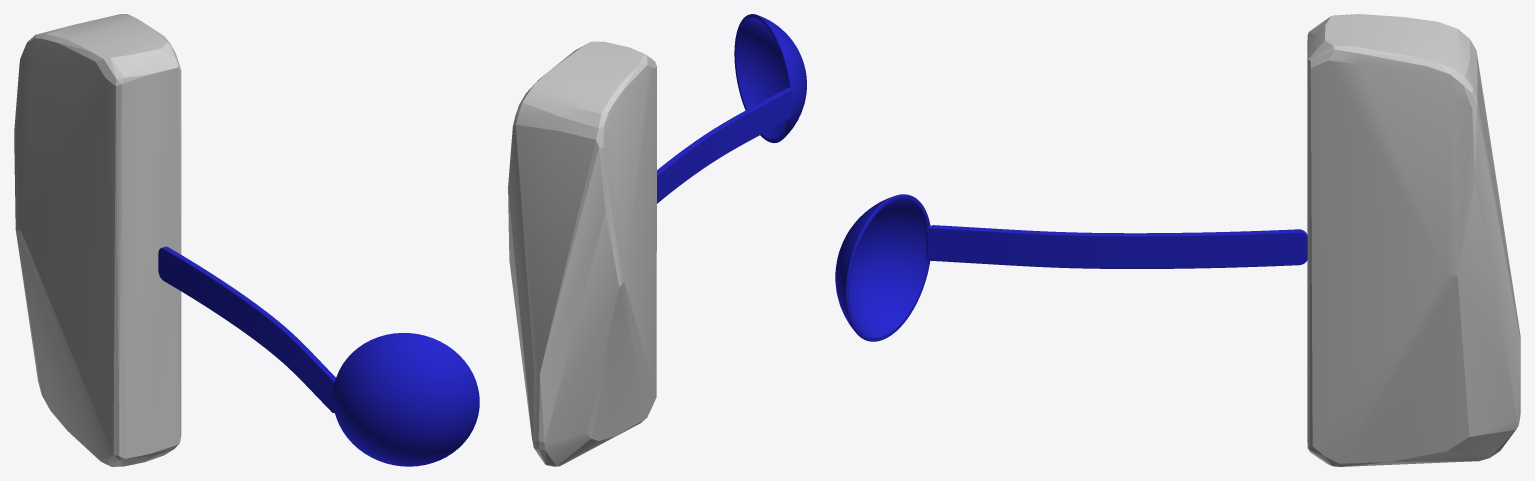
Rendered from mount_hand.obj.
3 views of the same model, side by side, from view 1: azimuth 30°, elevation 25°; view 2: azimuth 150°, elevation 25°; view 3: azimuth 270°, elevation 25° (orthographic). The views are drawn at different scales.
Parts seen in each view (by area): view 1: hand, mesh29.001; view 2: hand, mesh29.001; view 3: hand, mesh29.001.
Part boxes in pixels (x1,y1,x2,y2): hand: (14,14,181,466); mesh29.001: (158,246,479,466); hand: (508,41,656,466); mesh29.001: (657,14,806,203); hand: (1307,14,1520,466); mesh29.001: (835,194,1307,341).
Size of the model in its own units: 0.0858 by 0.2044 by 0.295.
